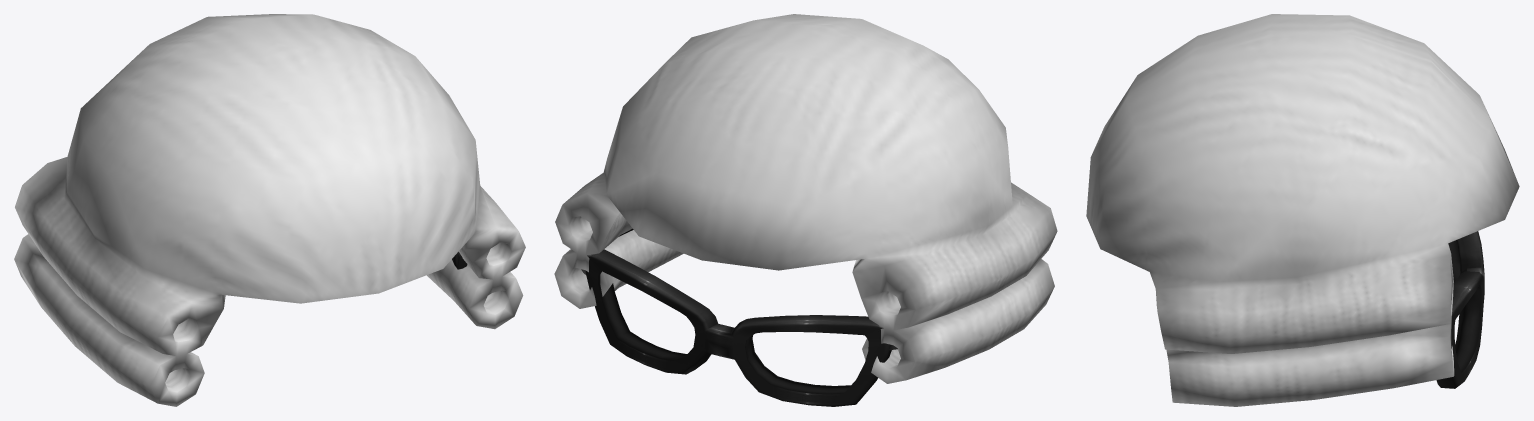
The model's file is acc.glb.
The picture shows the model from 3 angles, left to right: view 1: azimuth 30°, elevation 25°; view 2: azimuth 150°, elevation 25°; view 3: azimuth 270°, elevation 25°; orthographic projection. The views are drawn at different scales.
Visible parts, largest first — view 1: Handle.001; view 2: Handle.001, Handle; view 3: Handle.001, Handle.
Boxes of the visible parts, bbox=[...] form: Handle.001: bbox=[14, 14, 525, 406]; Handle.001: bbox=[554, 14, 1057, 383]; Handle: bbox=[581, 228, 897, 406]; Handle.001: bbox=[1086, 14, 1519, 406]; Handle: bbox=[1436, 231, 1484, 388].
Size of the model in its own units: 1.58 by 1.11 by 1.48.
2 materials, 2 textured.
